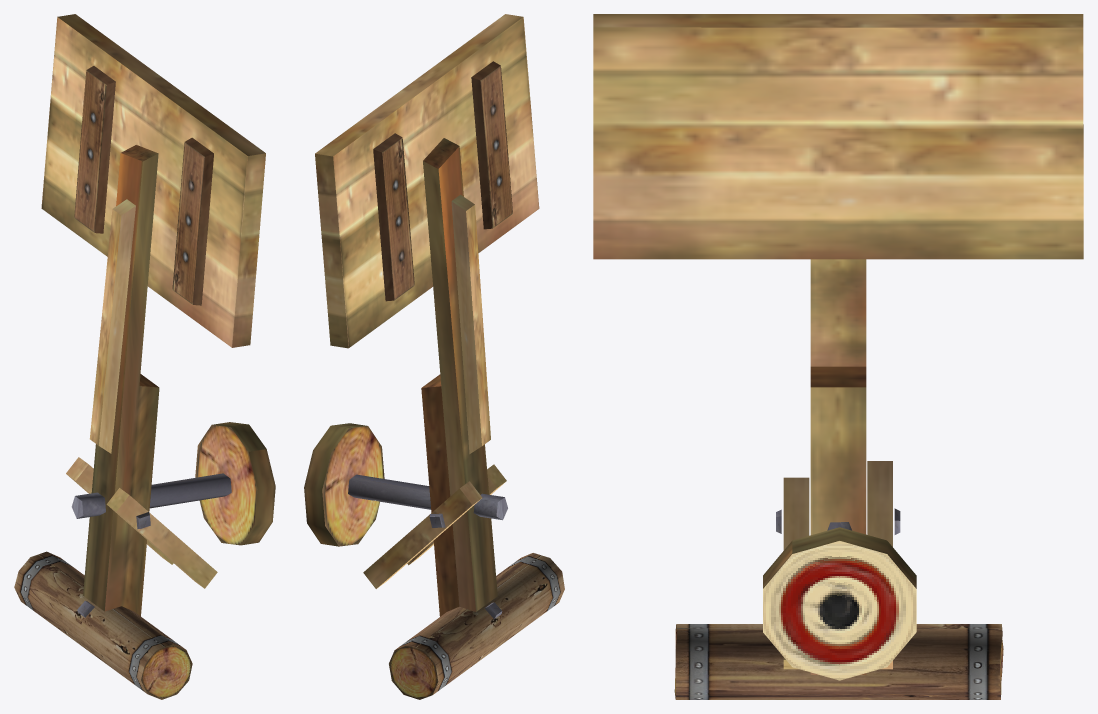
The model's file is P_Modul_37_Bridge.obj.
3 views of the same model, side by side, from view 1: azimuth 30°, elevation 25°; view 2: azimuth 150°, elevation 25°; view 3: azimuth 270°, elevation 25° (orthographic). The views are drawn at different scales.
Visible parts, largest first — view 1: P_Modul_37_Bridge; view 2: P_Modul_37_Bridge; view 3: P_Modul_37_Bridge.
Boxes of the visible parts, left/top/right/bottom form: P_Modul_37_Bridge: left=14, top=14, right=275, bottom=699; P_Modul_37_Bridge: left=304, top=14, right=564, bottom=699; P_Modul_37_Bridge: left=593, top=14, right=1083, bottom=699.
Size of the model in its own units: 4.71 by 14.48 by 9.03.
